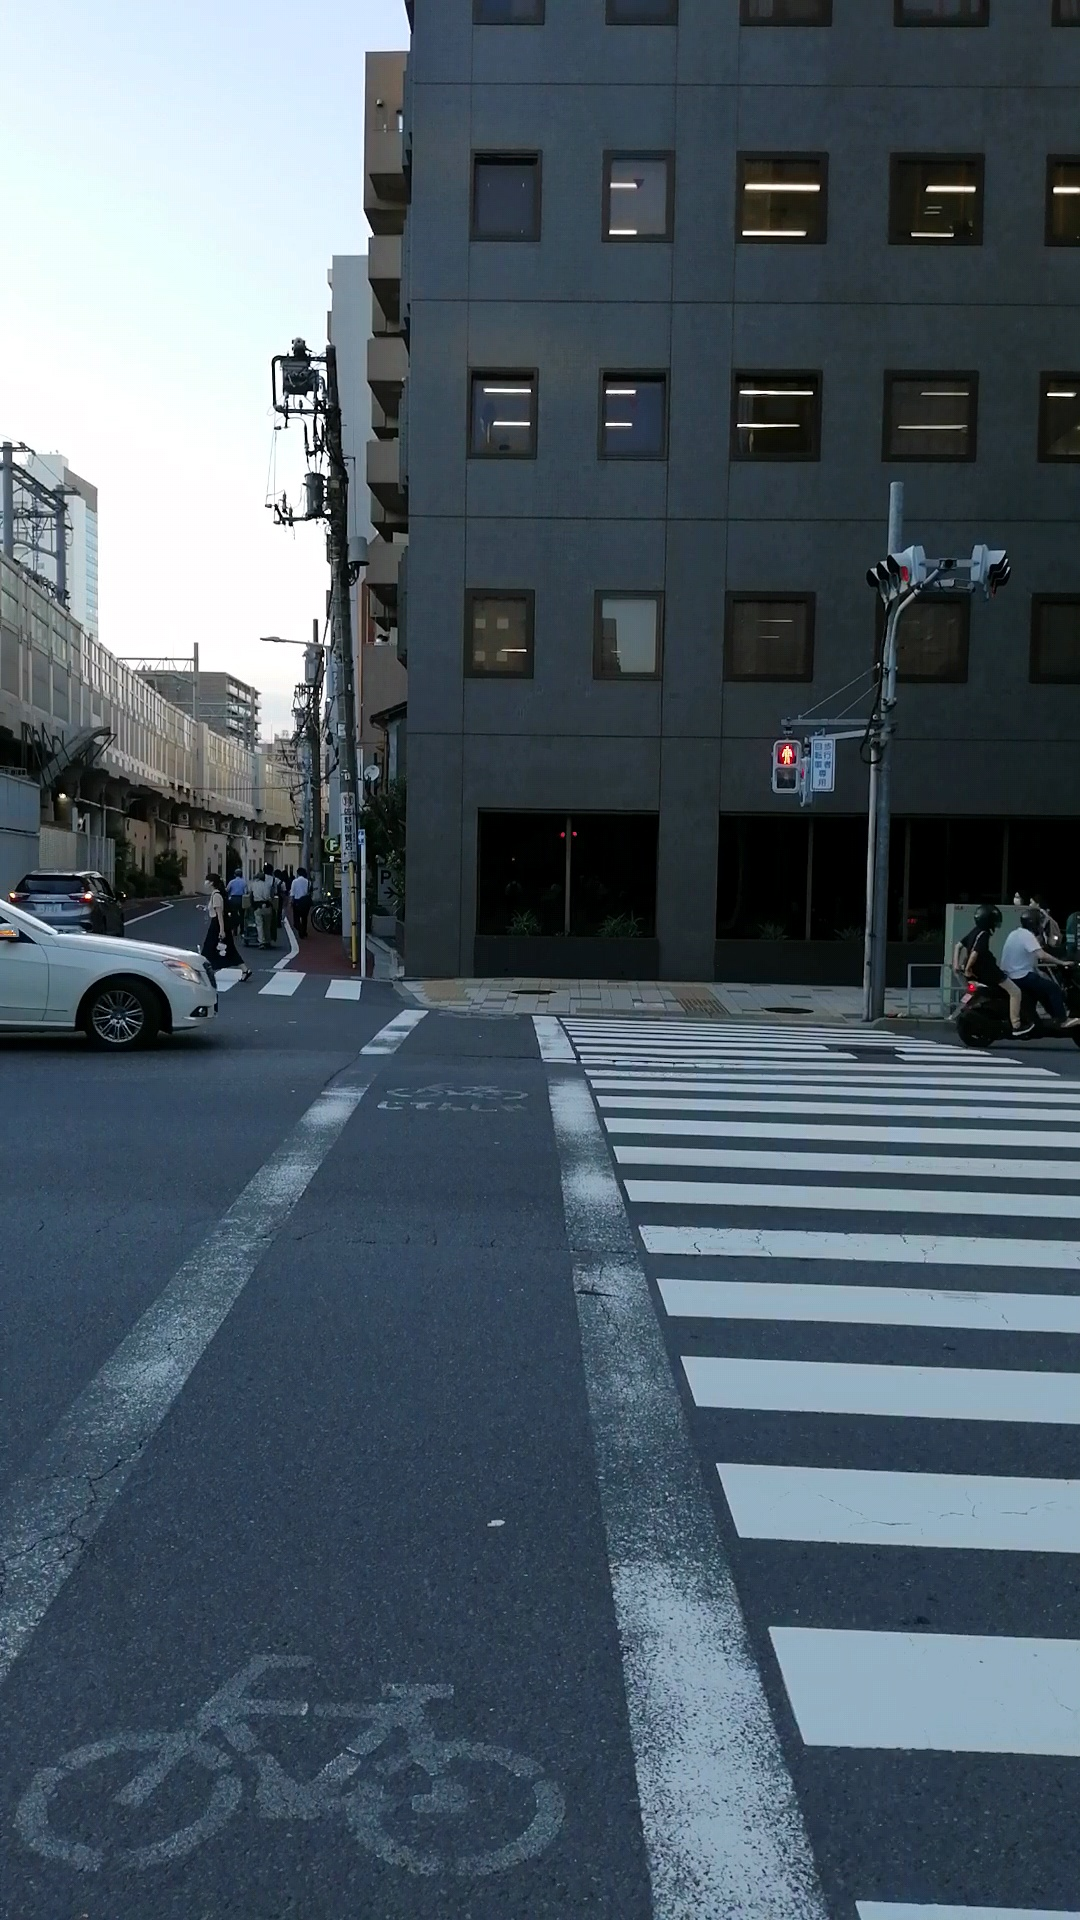red: (771, 738, 800, 795)
